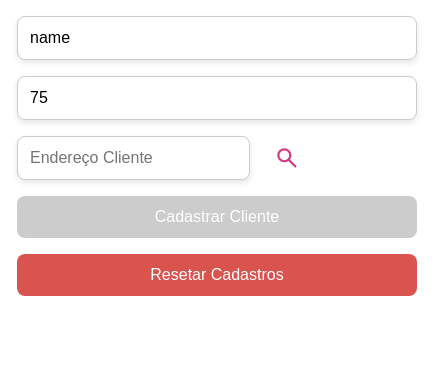
Test: ClientForm › displays error if address is missing when searching location
This screenshot has width=435, height=368.
Click the picture named "Search Icon" at (287, 158), box x1=274 y1=145 x2=300 y2=171
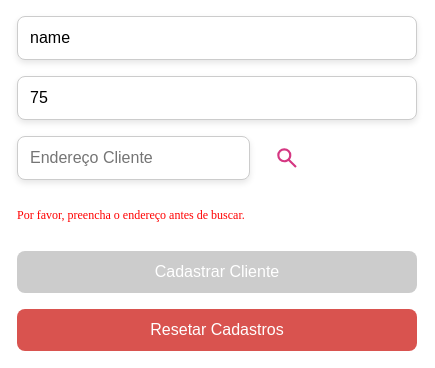
Expected: the text "Por favor, preencha o endereço antes de buscar." is shown, x1=17 y1=208 x2=245 y2=222
